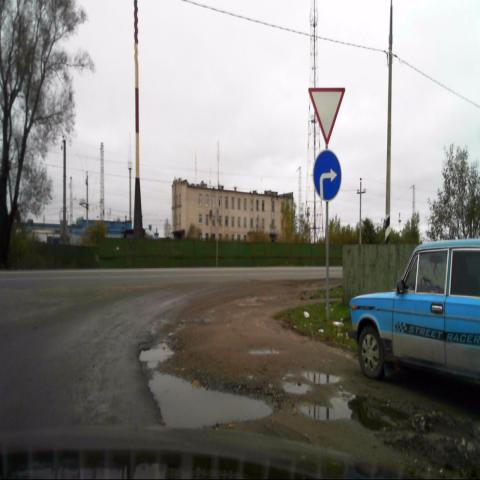4_1_2: (313, 150, 341, 200)
